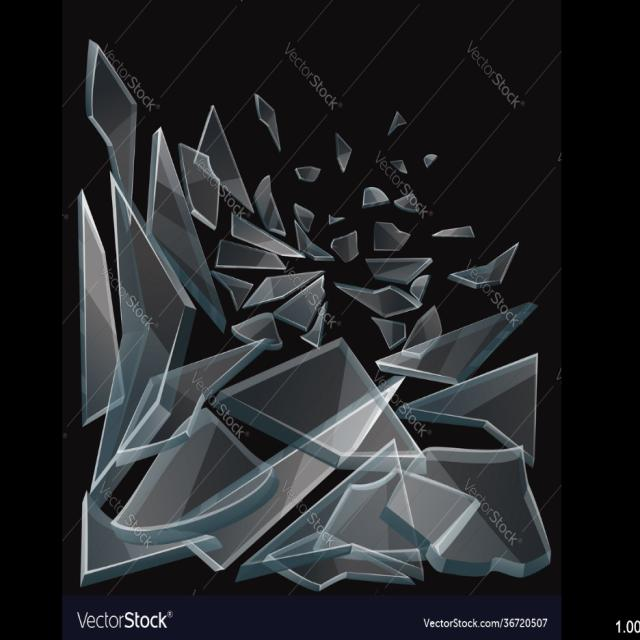PecahanKaca: (77, 37, 550, 592)
